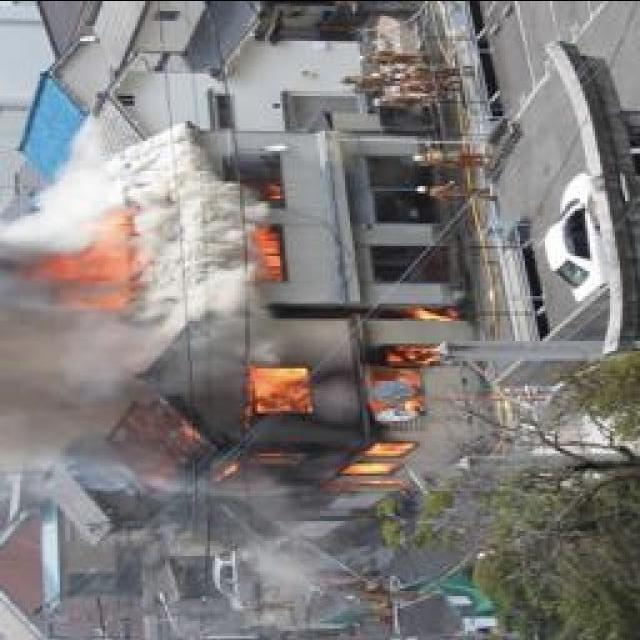Fire: (220, 344, 432, 496), (53, 202, 139, 308), (253, 214, 286, 286)
